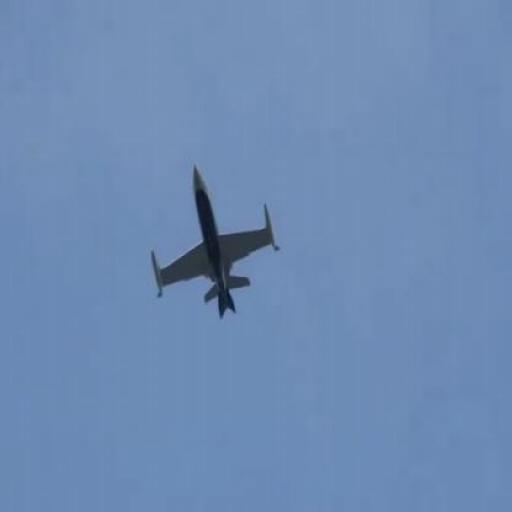aircraft: (149, 163, 279, 317)
